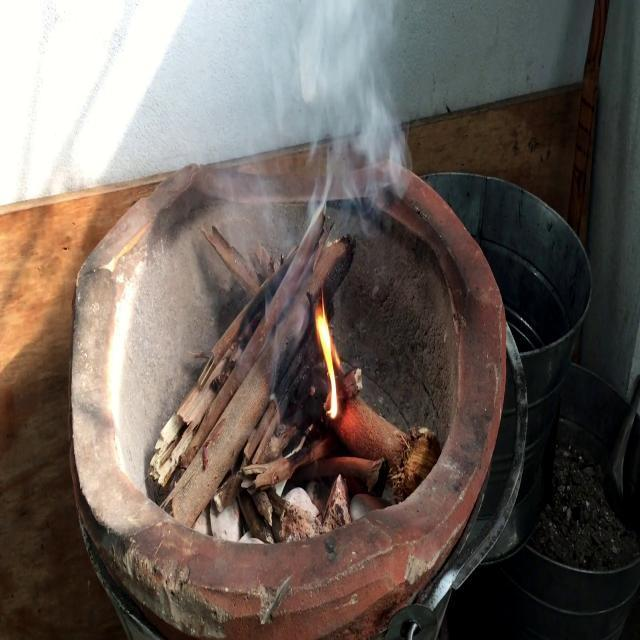Smoke: (292, 0, 412, 273)
